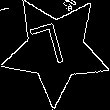L_S: (35, 21, 76, 78)
